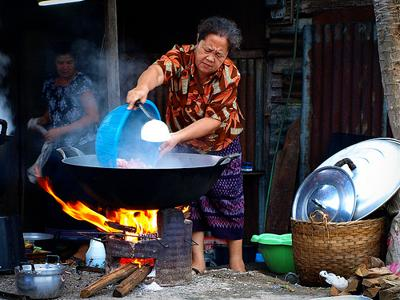person: (128, 19, 248, 278)
